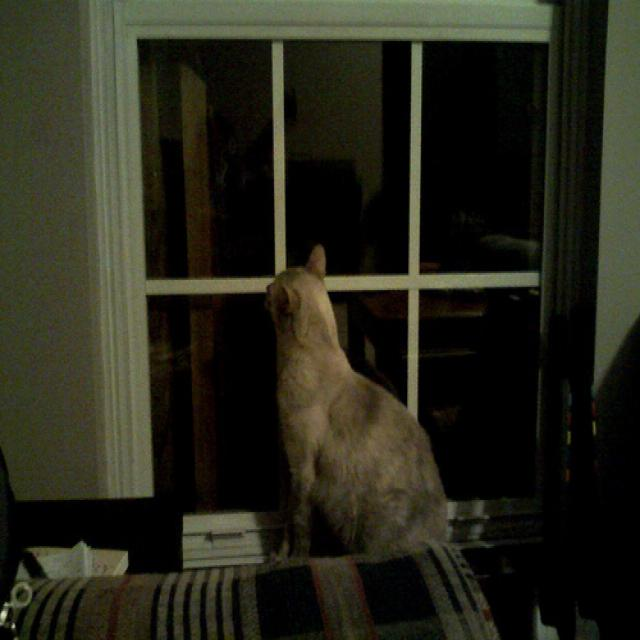Cat: (257, 252, 479, 562)
